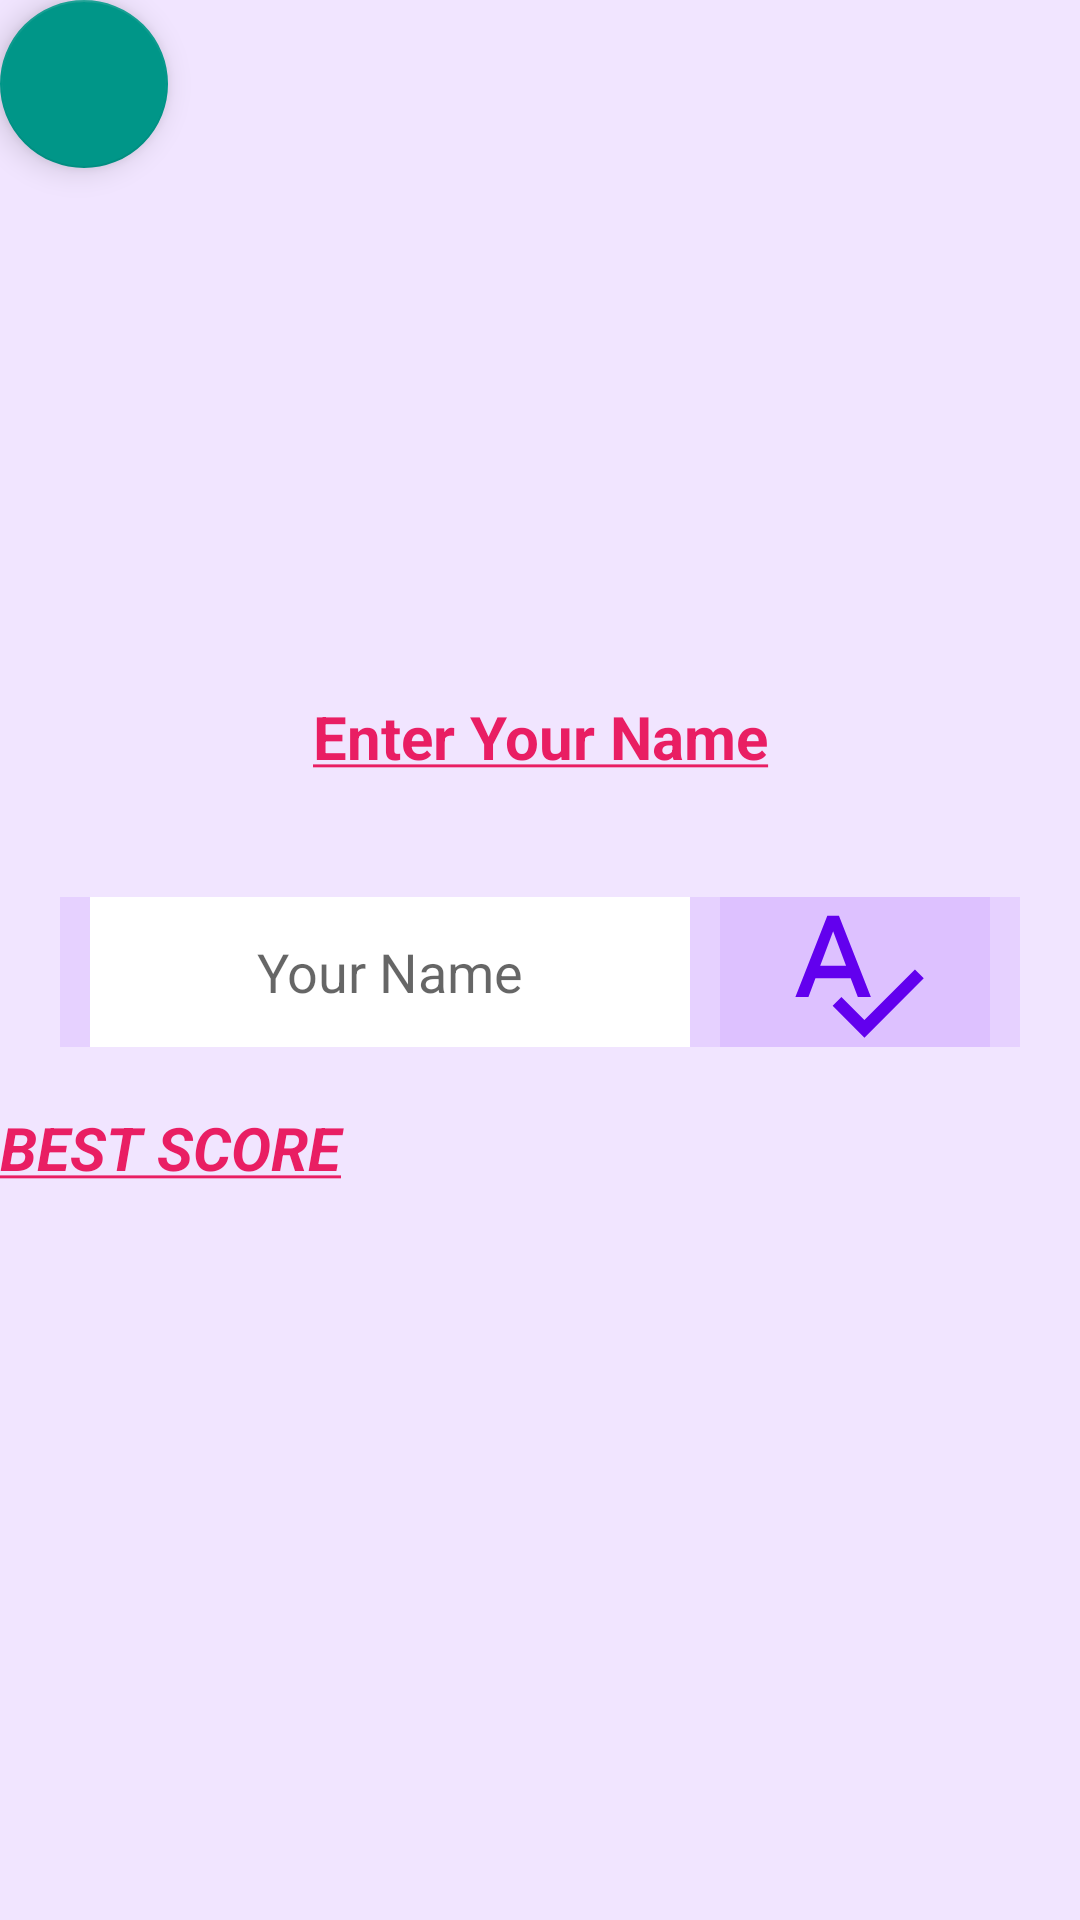

Named icons in this screenshot (1080 × 1920) and their centers, (x=x, y=y):
spellcheck: (x=855, y=972)
